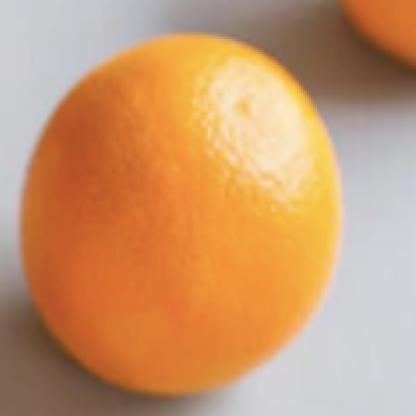fresh: (23, 35, 341, 398)
